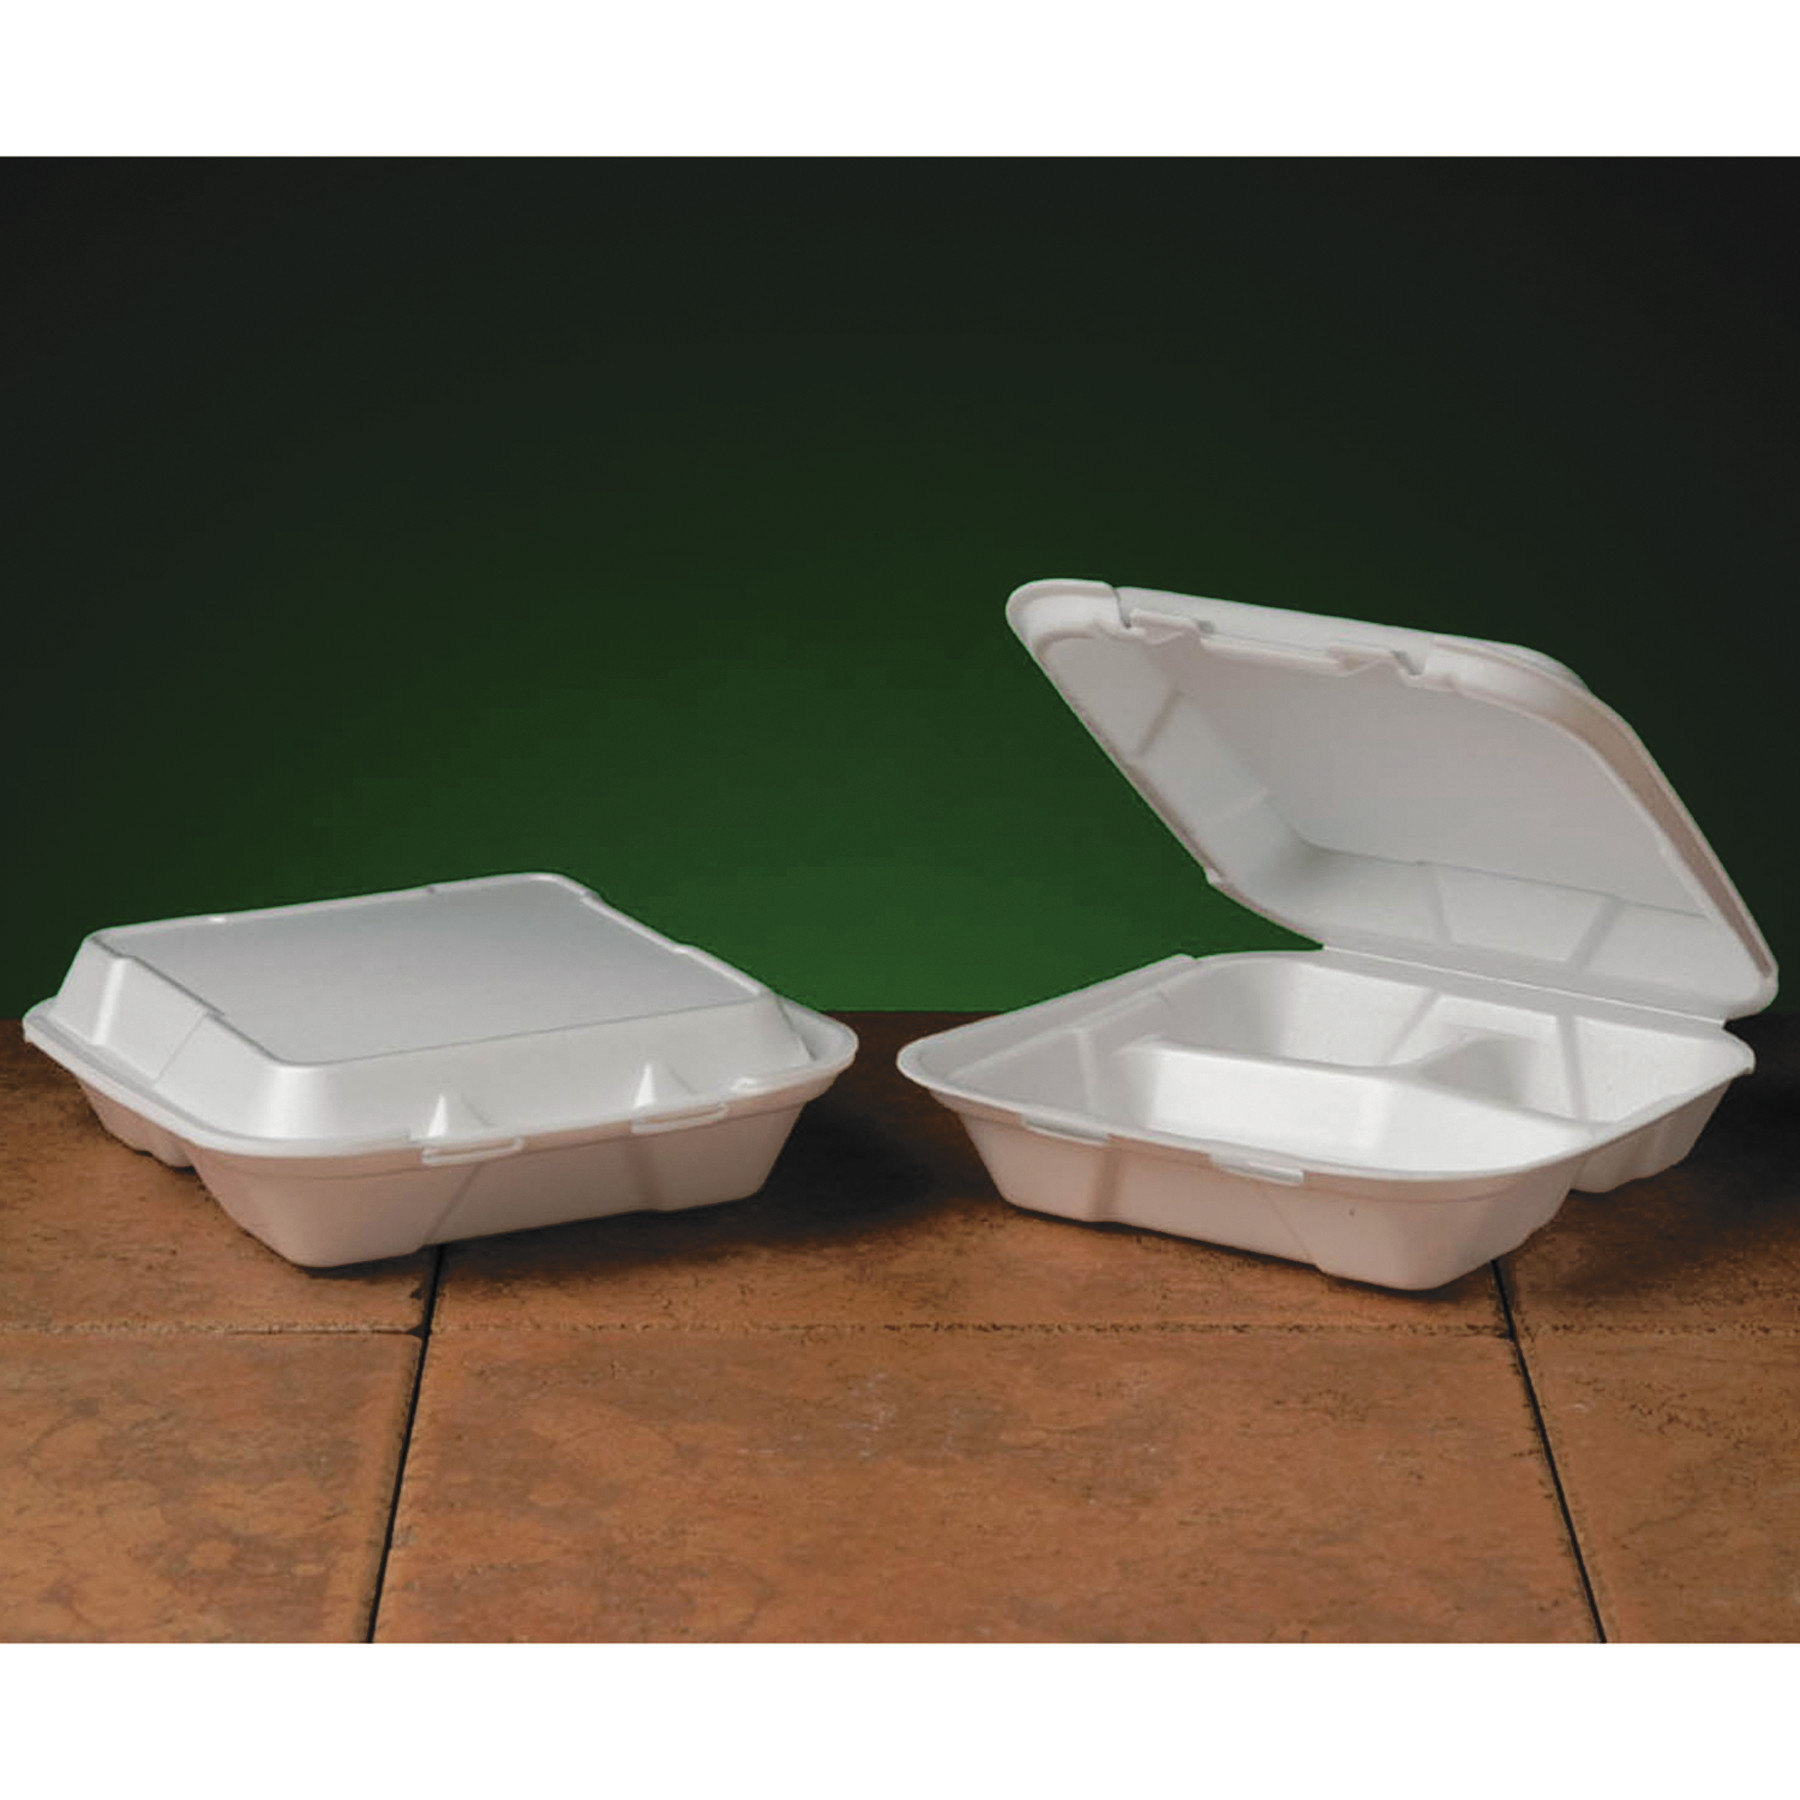styrofoam: (892, 569, 1777, 1310), (25, 860, 862, 1282)
